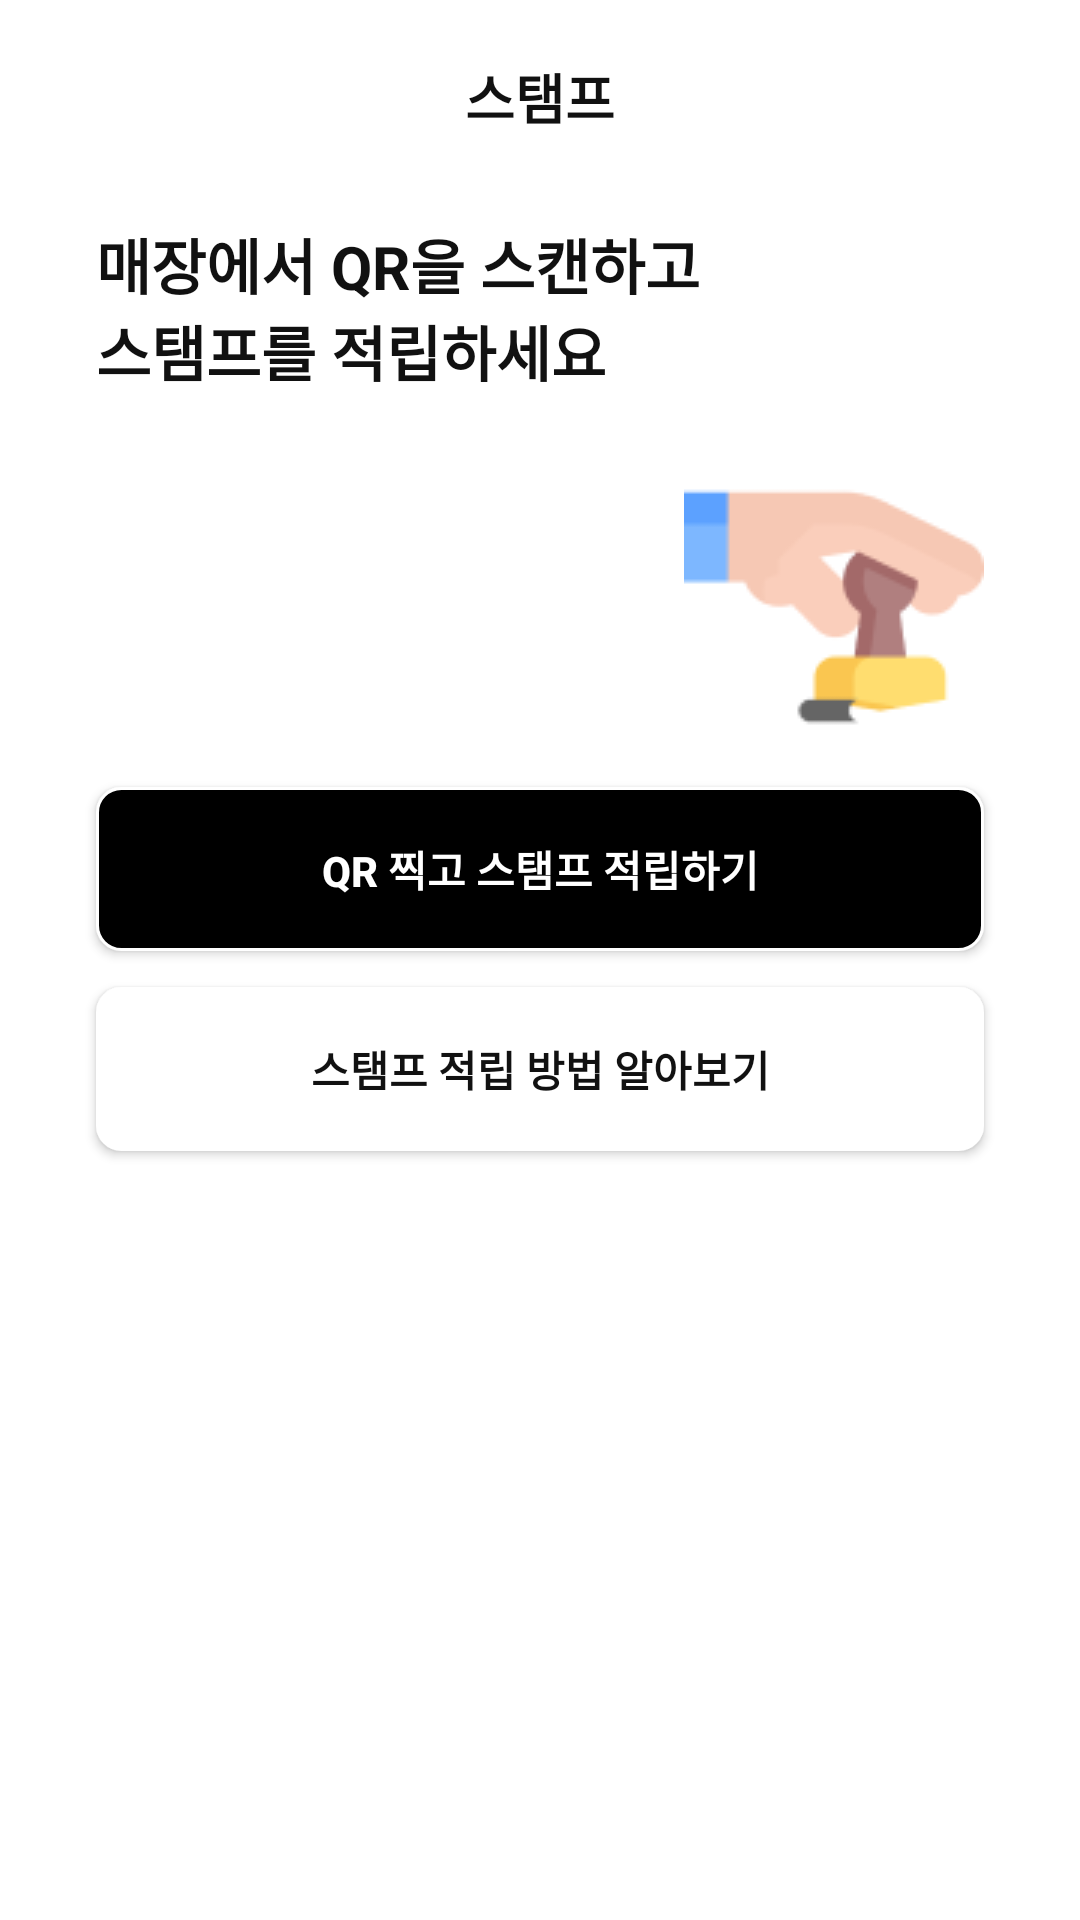

Icons on this 1080px x 1920px Android screen, each with its box as (left=x1, top=y1, right=x2, bottom=y2):
stamp: (left=684, top=490, right=984, bottom=724)
